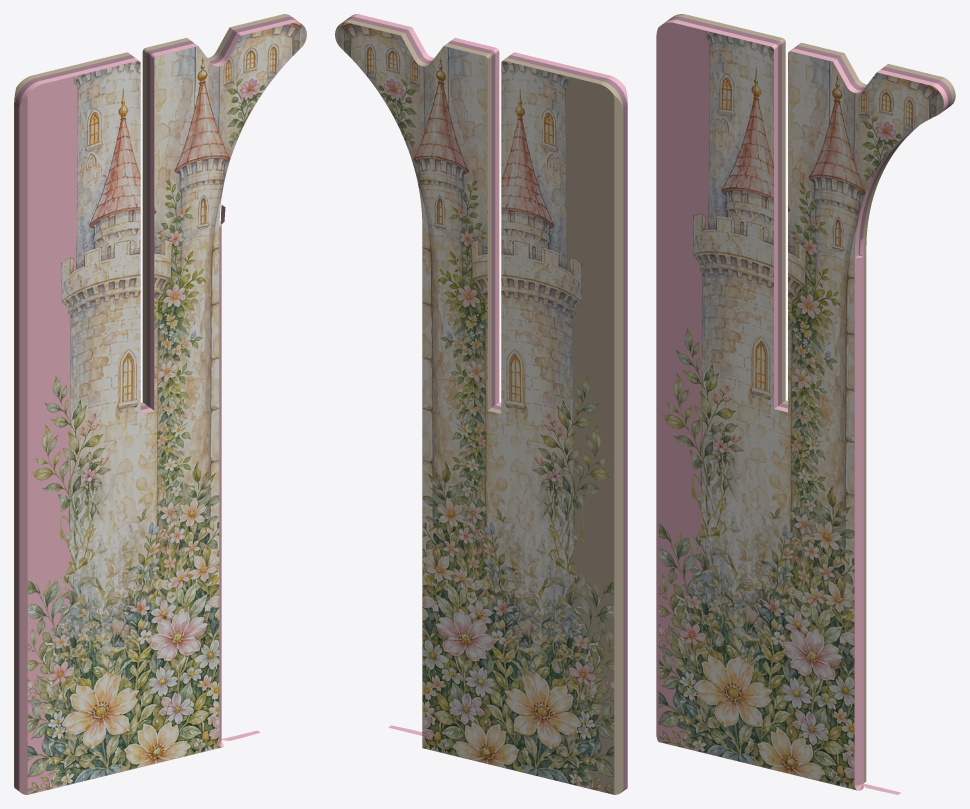
The picture shows the model from 3 angles, left to right: view 1: azimuth 30°, elevation 25°; view 2: azimuth 150°, elevation 25°; view 3: azimuth 330°, elevation 25°; orthographic projection. The views are drawn at different scales.
Parts seen in each view (by area): view 1: p004; view 2: p004; view 3: p004.
Boxes of the visible parts, x1,y1,x2,y2 form: p004: (14,14,306,794); p004: (335,14,627,794); p004: (656,14,955,794).
Bounding box in the file's own units: 389 × 925 × 27.
Materials: 5 (2 with a texture image).
